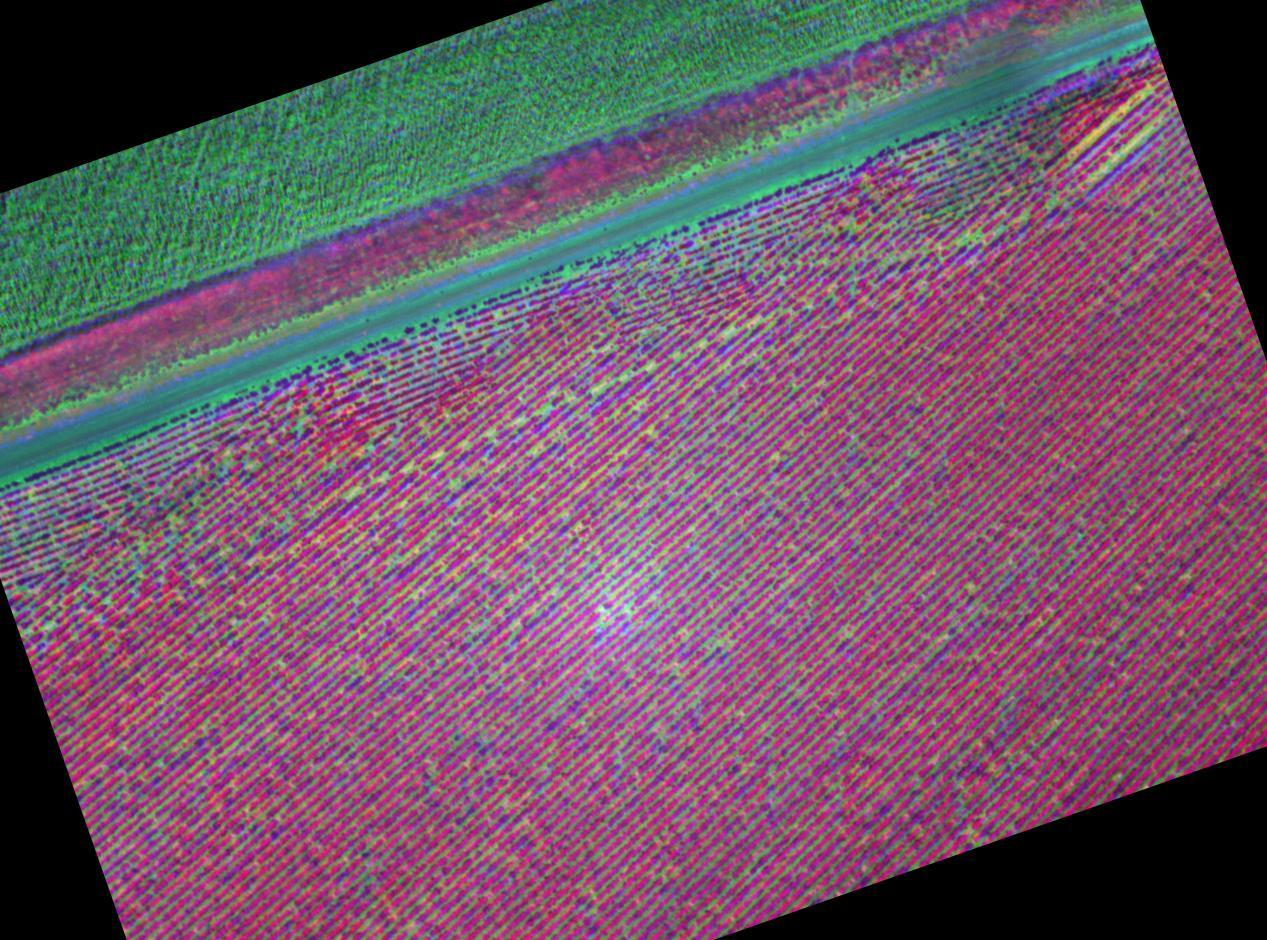dc: (1048, 199, 1059, 207), (967, 585, 975, 592)
